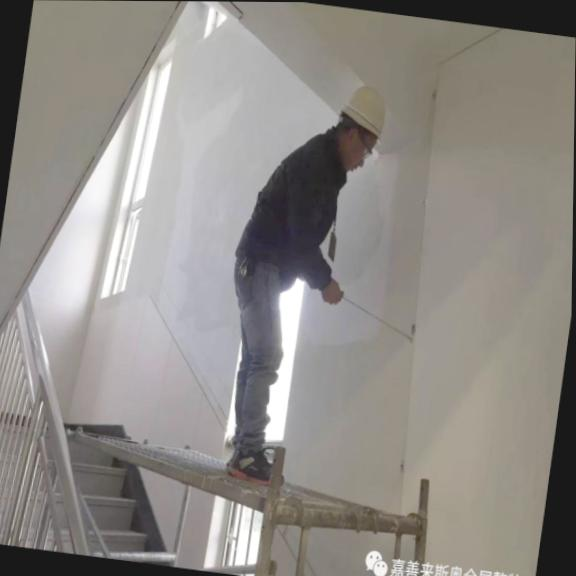no_safety_vest: (239, 137, 371, 318)
